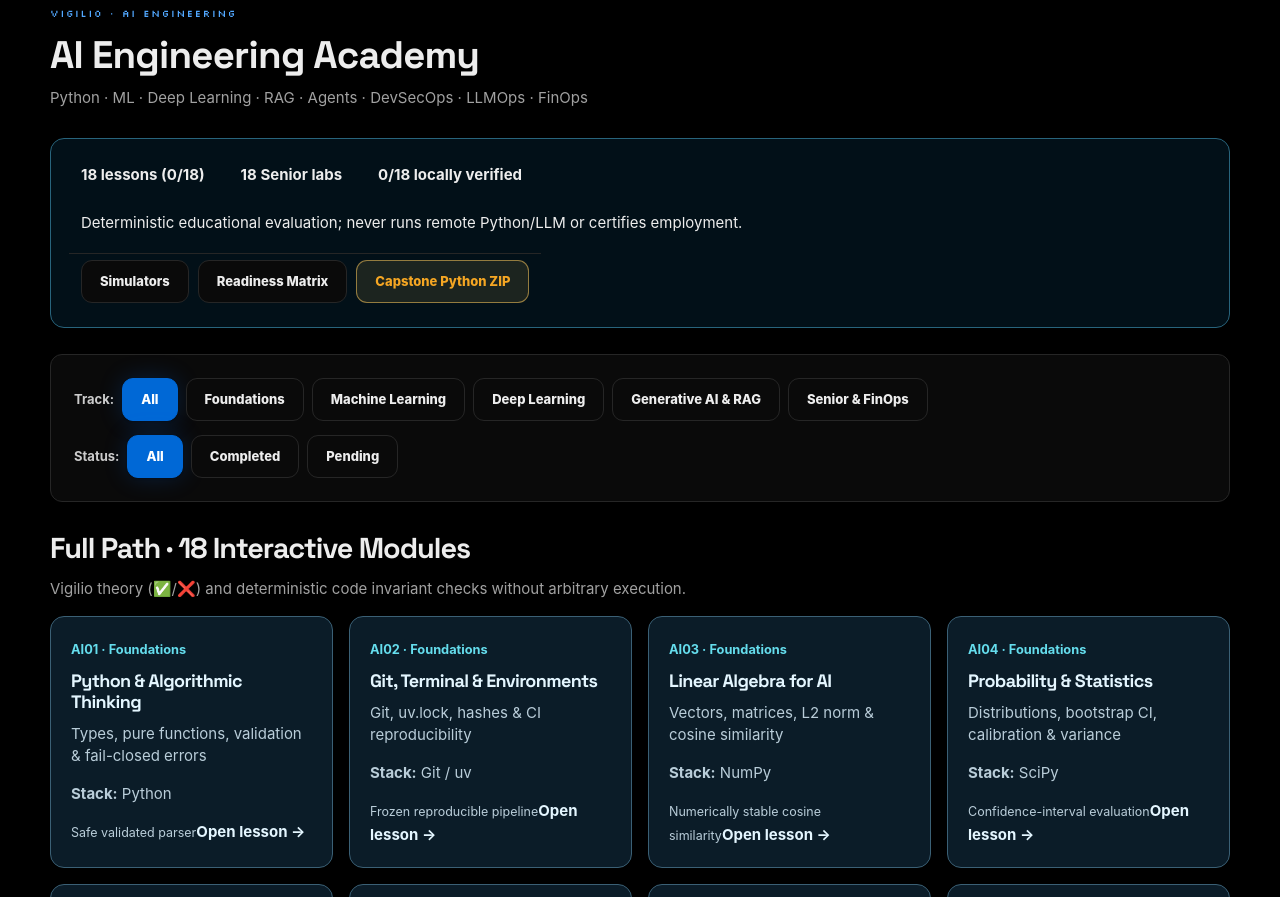
Test: AIAcademy component integration › renders localized dashboard in English and filters modules by level
Check: the heading "AI Engineering Academy" is shown, box [50, 30, 479, 79]
Check: the heading "Full Path · 18 Interactive Modules" is shown, box [50, 530, 470, 566]
Click the button "Generative AI & RAG": coordinates (696, 399) [612, 378, 780, 421]
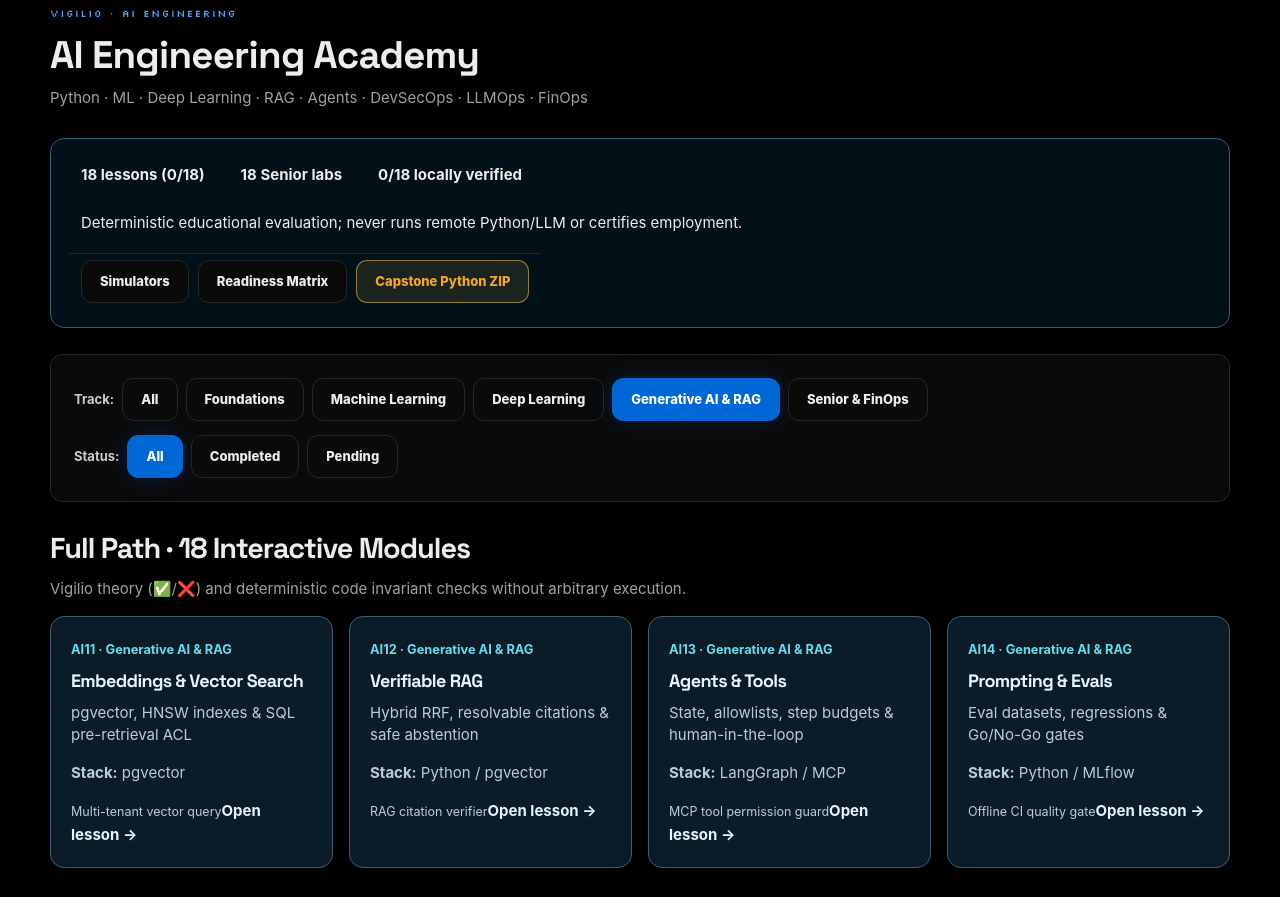
Check: the number of headings "Verifiable RAG" is 2
Check: the link "Python & Algorithmic Thinking" is gone
